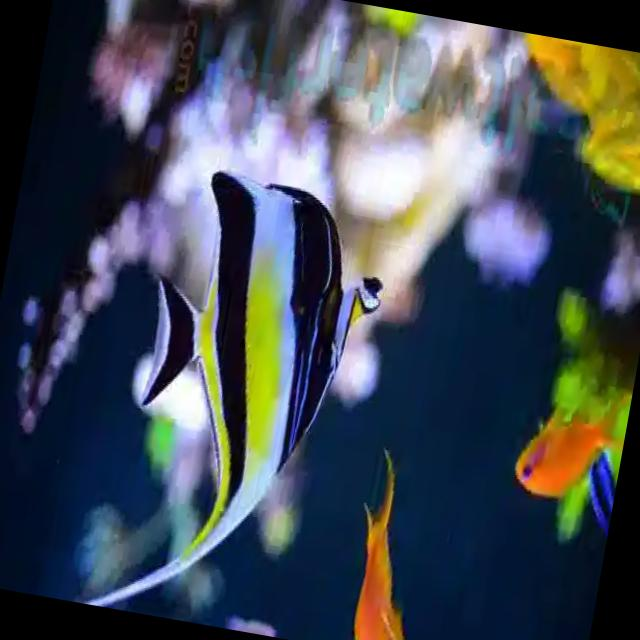MorishIdol: (78, 155, 401, 640)
